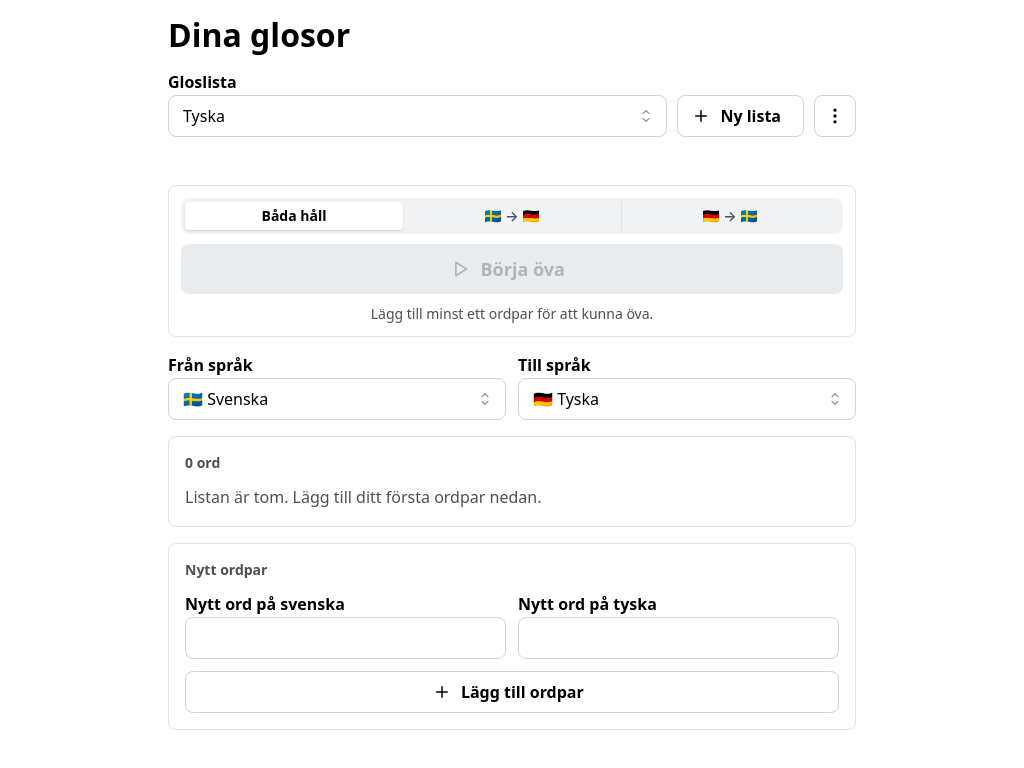
Test: EditPage › deleting the last list shows the empty state
The image size is (1024, 768).
Expected: the dropdown labelled "Gloslista" is shown, [168,95,667,137]
Click the button named "Fler val för listan". click: (835, 116)
box: [814,95,856,137]
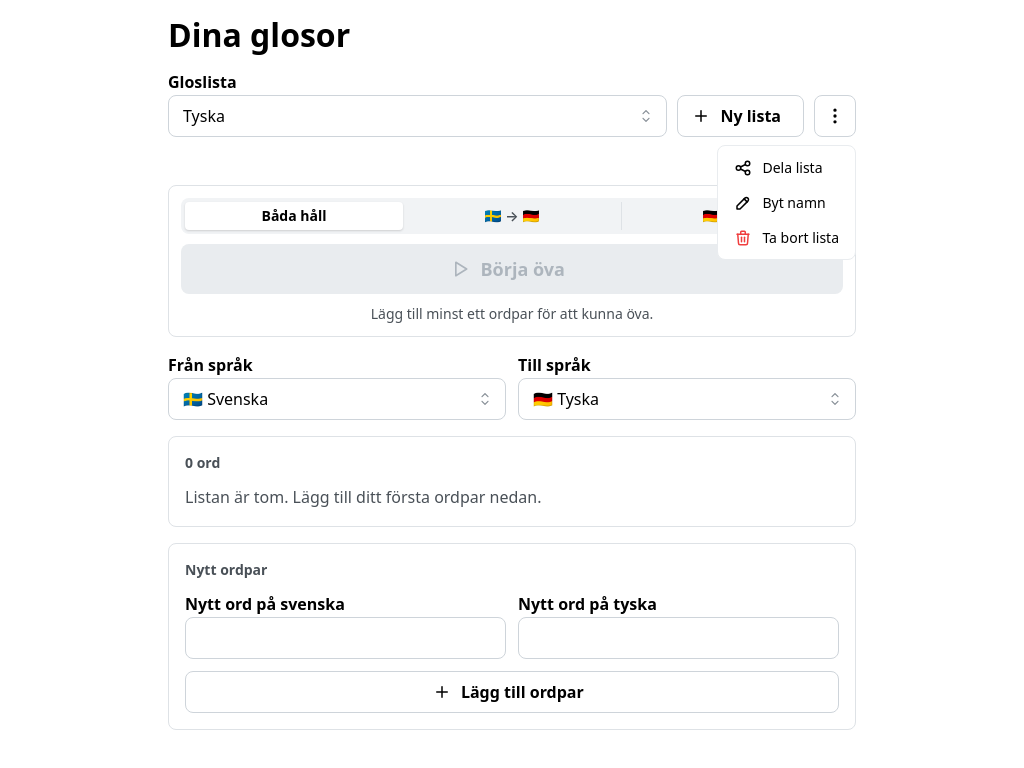
Click the menu item "Ta bort lista". click: (787, 238)
box: [722,220,851,255]
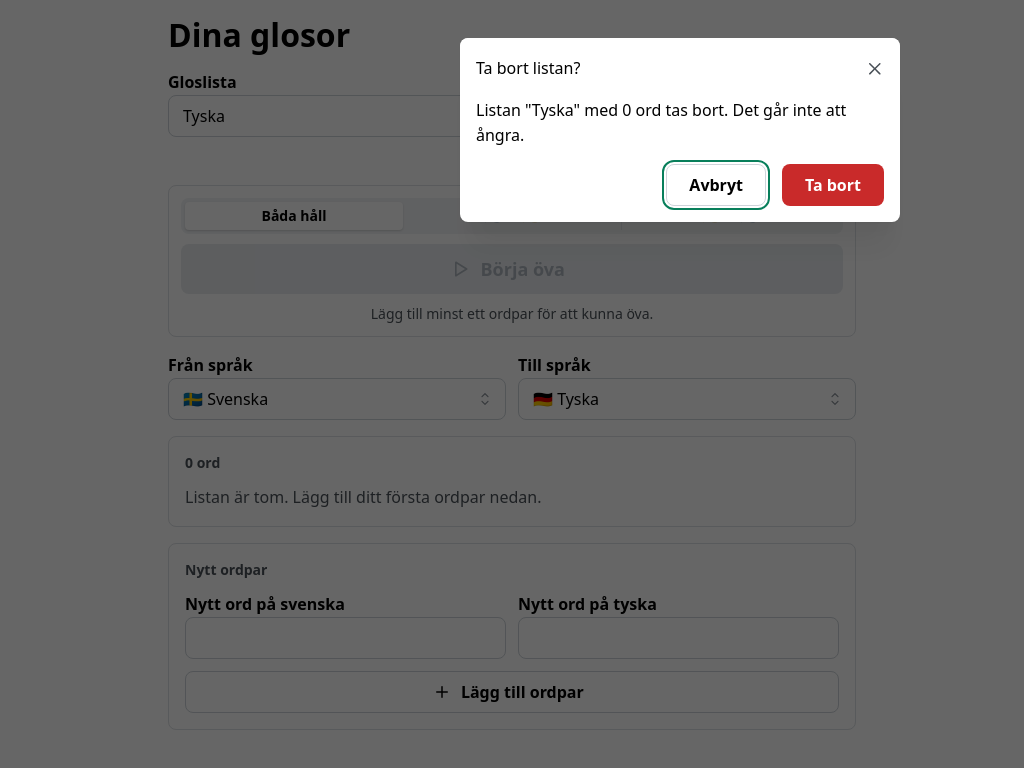
Click the button "Ta bort". click: (833, 185)
box: [782,164,884,206]
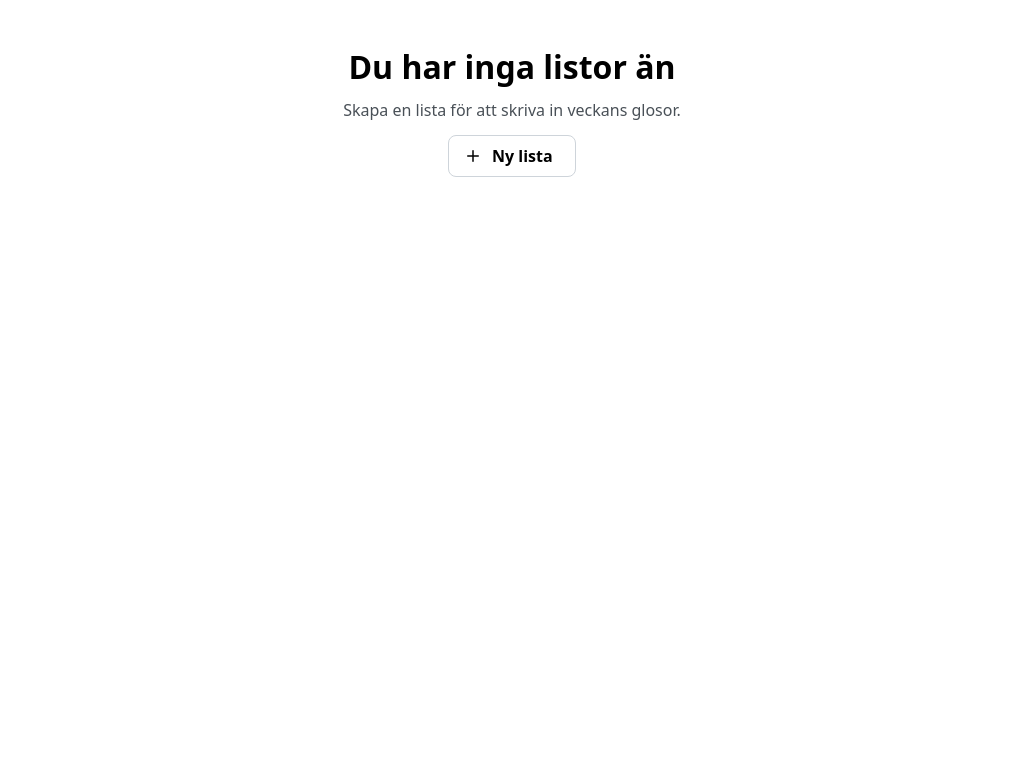
Expected: the heading "Du har inga listor än" is shown, [348,48,676,86]
